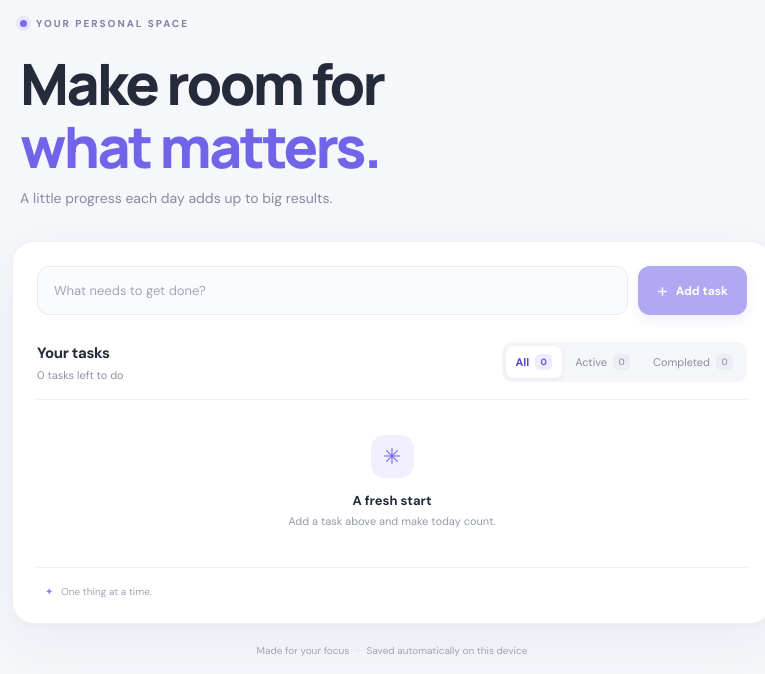
Todo app › clears completed tasks
The image size is (765, 674).
Type "Done task" into the field labelled "What needs to get done?".
click(333, 291); type("Done task")  # box [37, 266, 628, 315]
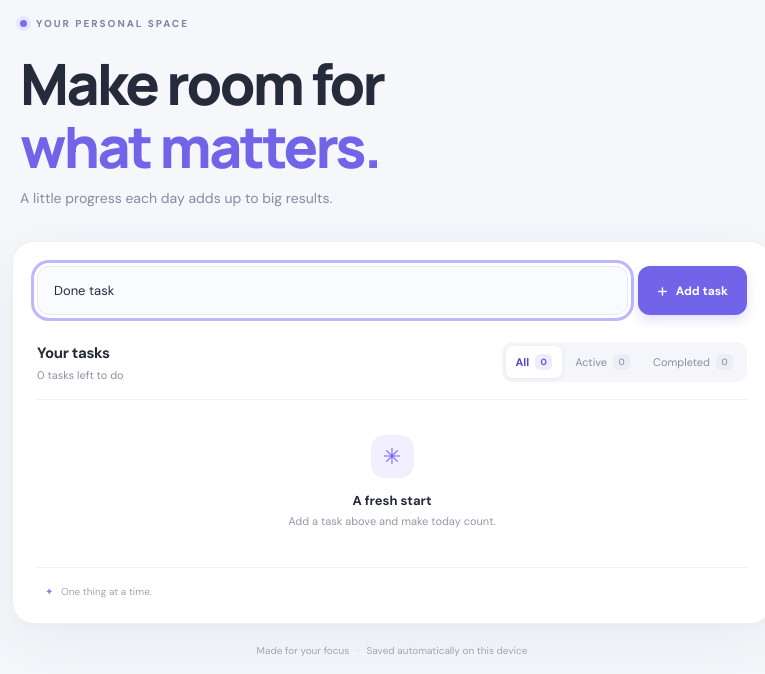
Click the button "+ Add task".
click(693, 291)  # box [638, 266, 747, 315]
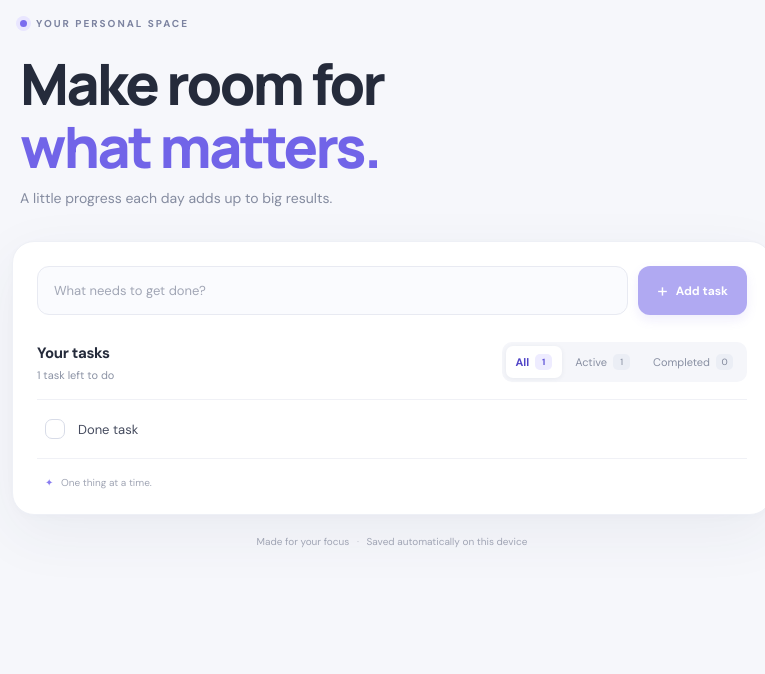
Click the button named "Complete Done task".
click(55, 429)  # box [45, 419, 65, 439]
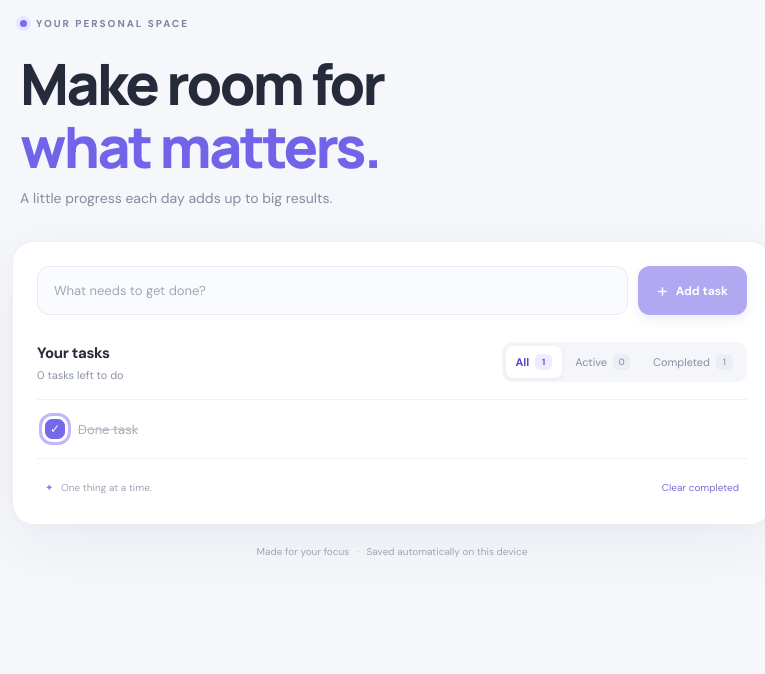
Click the button "Clear completed".
click(700, 488)  # box [662, 476, 739, 499]
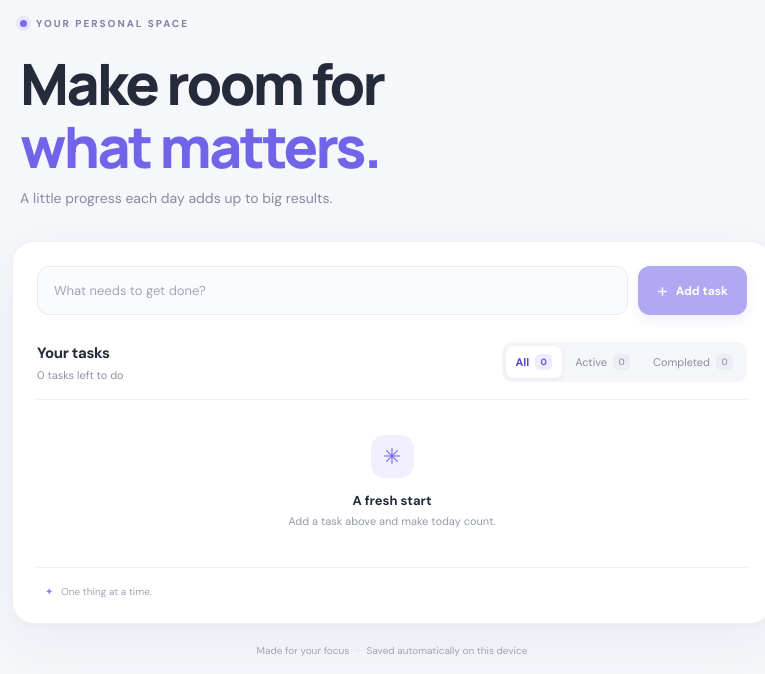
Expected: the text "Done task" is gone
